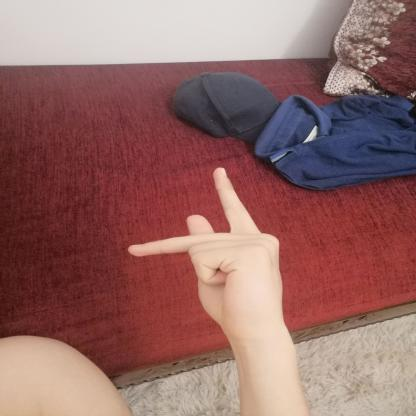DHAA: (112, 160, 294, 341)
